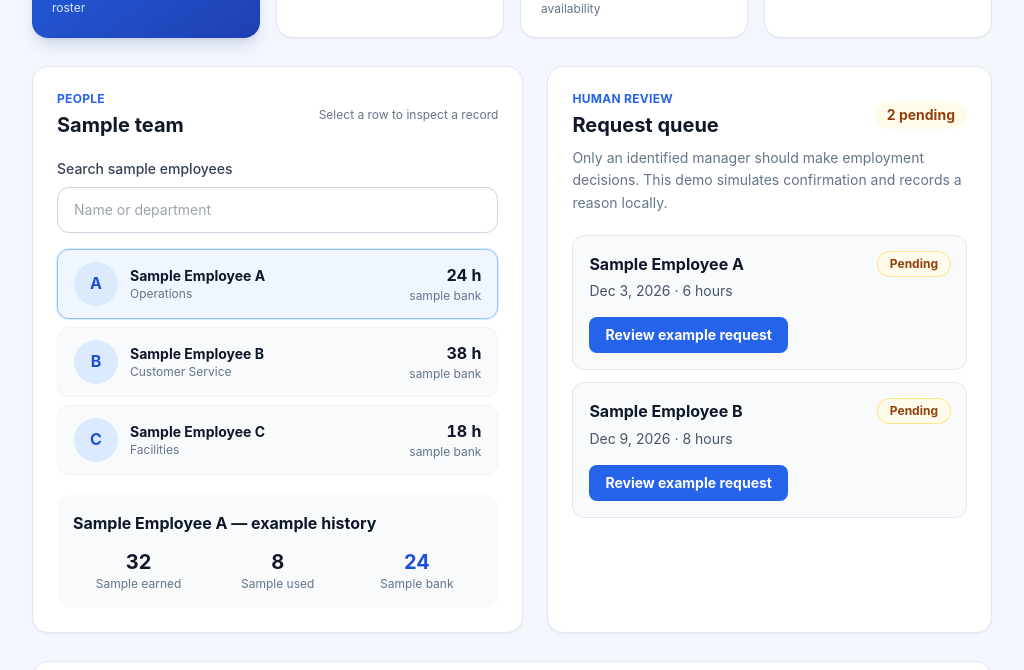
Test: Interactive Workspace Demo › requires an explicit manager note before a demo decision
(page scrolled)
Click the 1st button "Review example request" at [689, 335], box [589, 317, 788, 353]
(page scrolled)
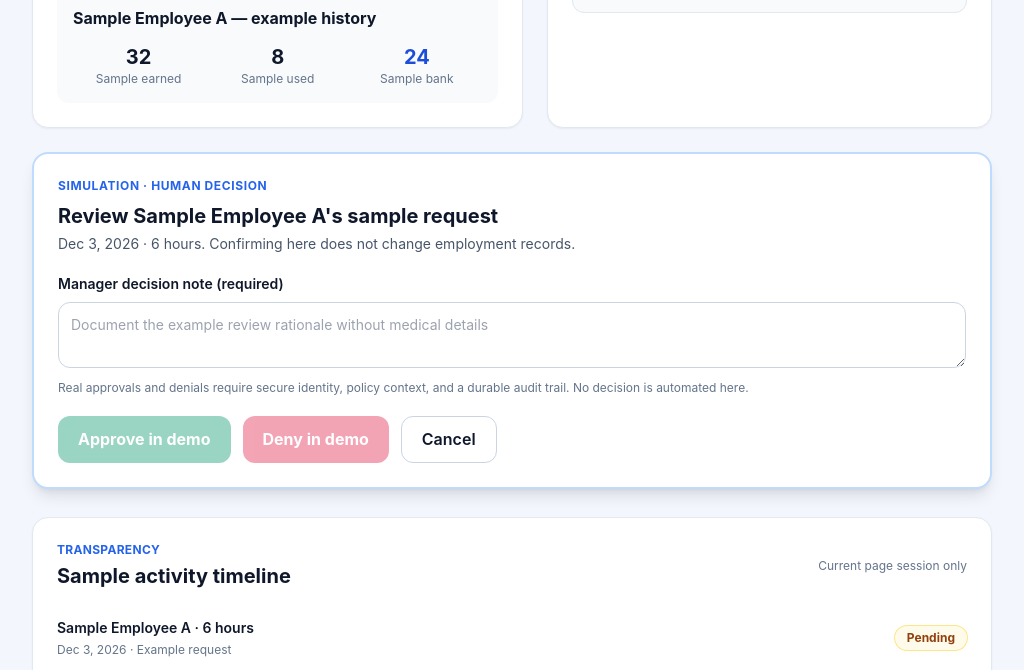
Now the button "Approve in demo" is disabled, box [58, 416, 230, 463]
Now the button "Deny in demo" is disabled, box [242, 416, 389, 463]
Replace the text in the text box labelled "Manager decision note (required)" with "Sample manager reviewed request" at [512, 335], box [58, 302, 966, 368]
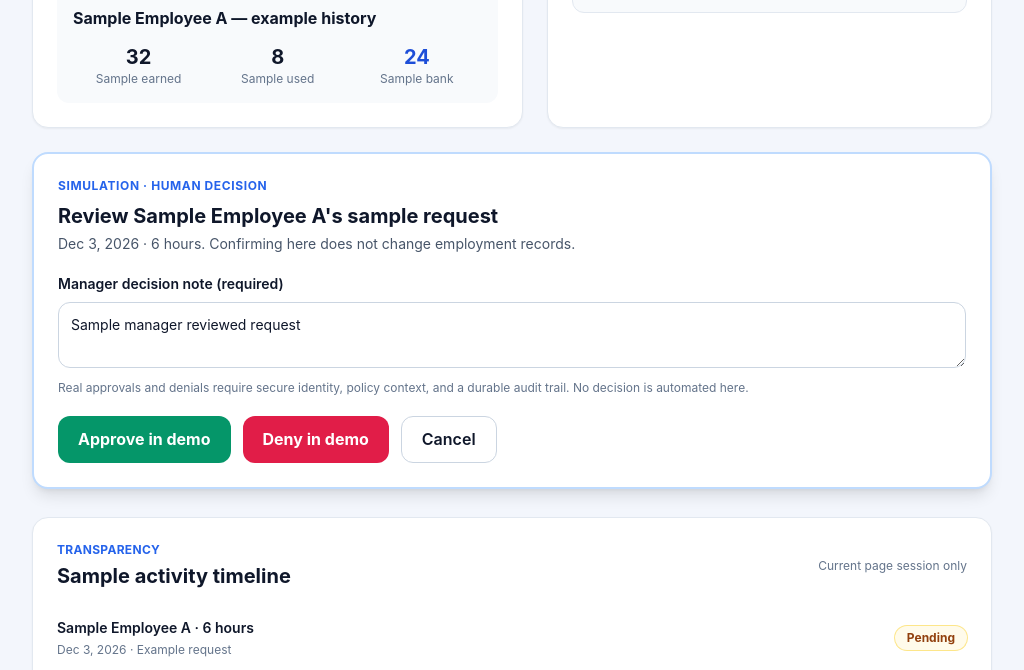
Now the button "Approve in demo" is enabled
Click the button "Approve in demo" at [144, 440], box [58, 416, 230, 463]
(page scrolled)
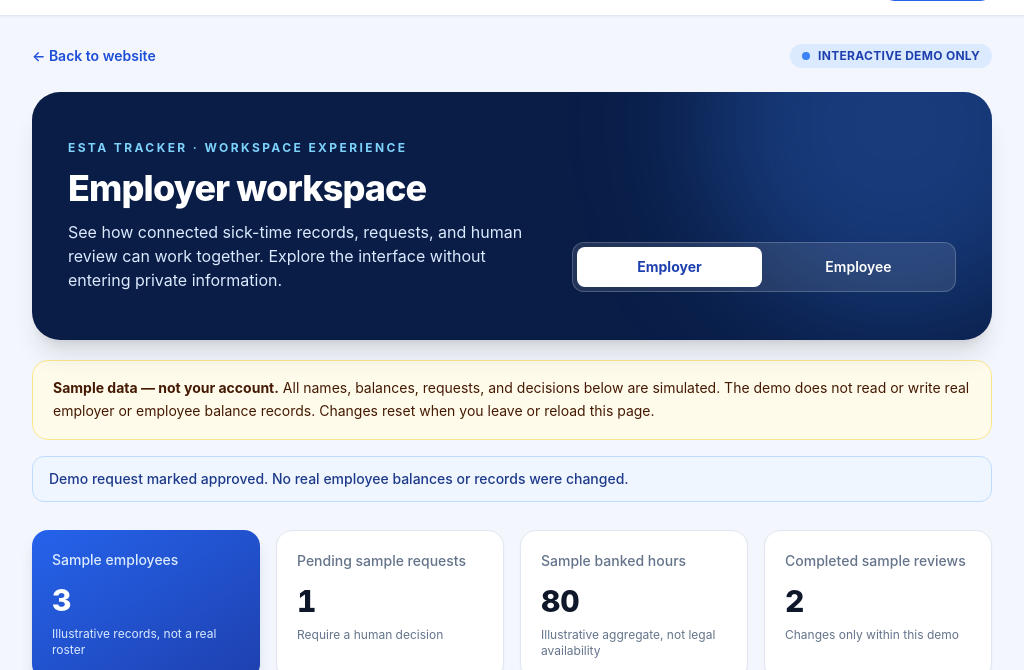
Now the message shows "marked approved", box [49, 470, 629, 486]
Click the button "Employee" at [858, 267], box [766, 247, 951, 287]
(page scrolled)
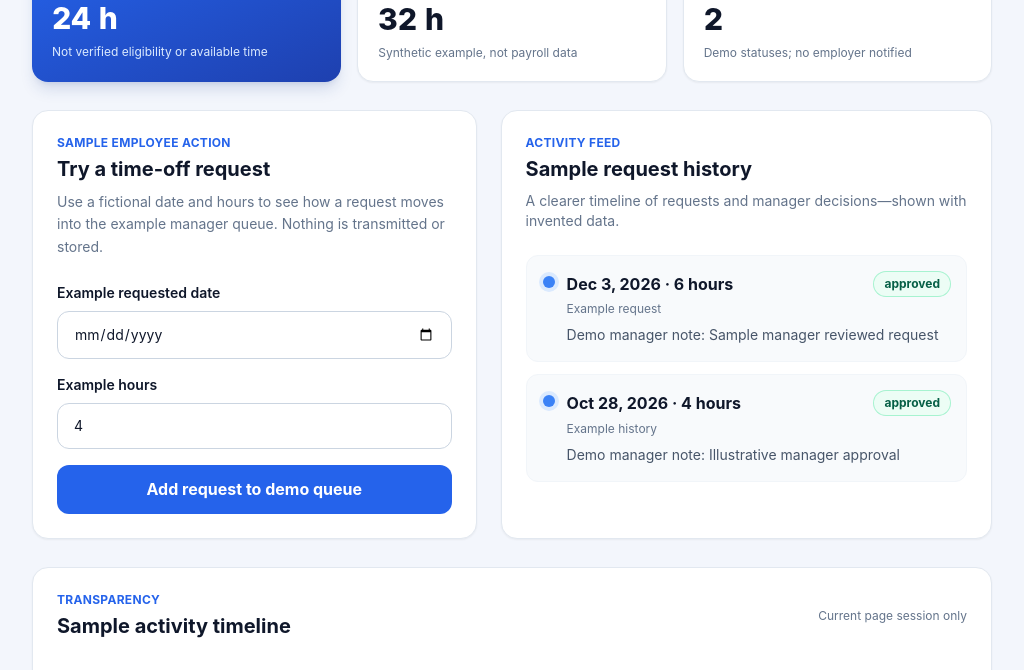
Now the text "Demo manager note: Sample manager reviewed request" is shown, box [567, 325, 950, 345]
